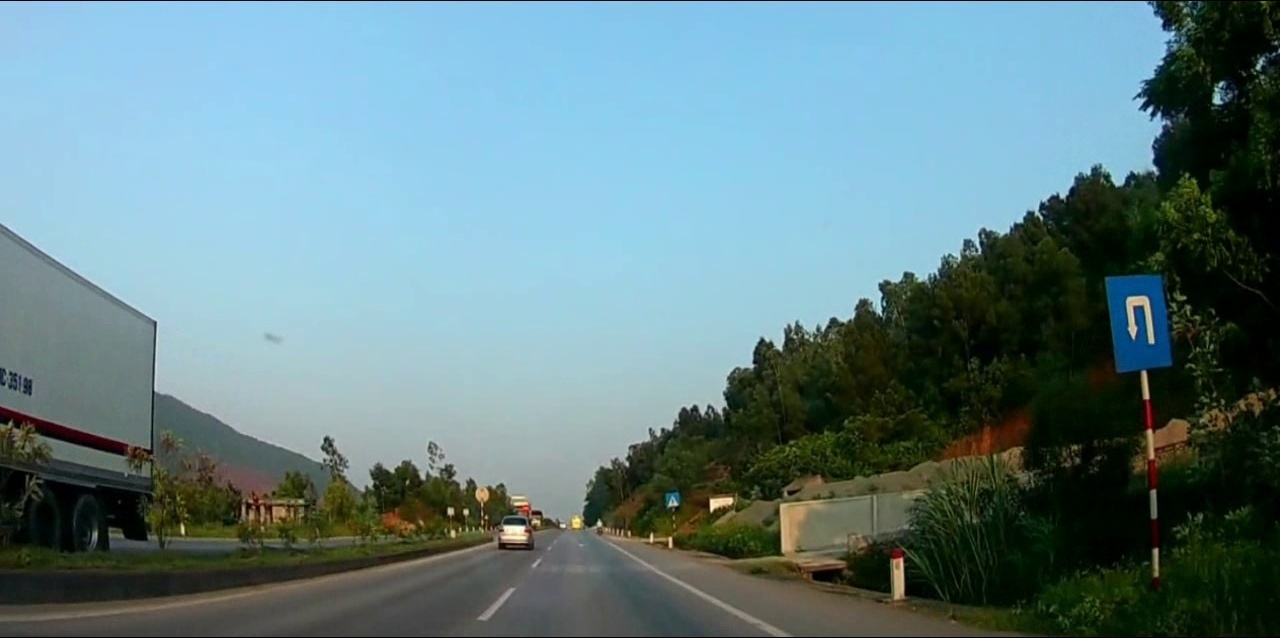Bien khac: (1099, 270, 1176, 375)
Cam di nguoc chieu: (521, 504, 531, 514)
Nguoi di bo: (662, 492, 681, 509)
